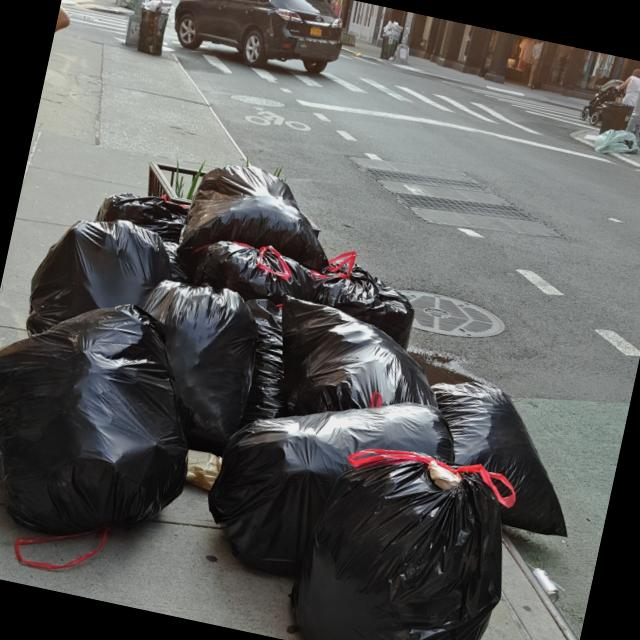garbage: (0, 108, 630, 640)
